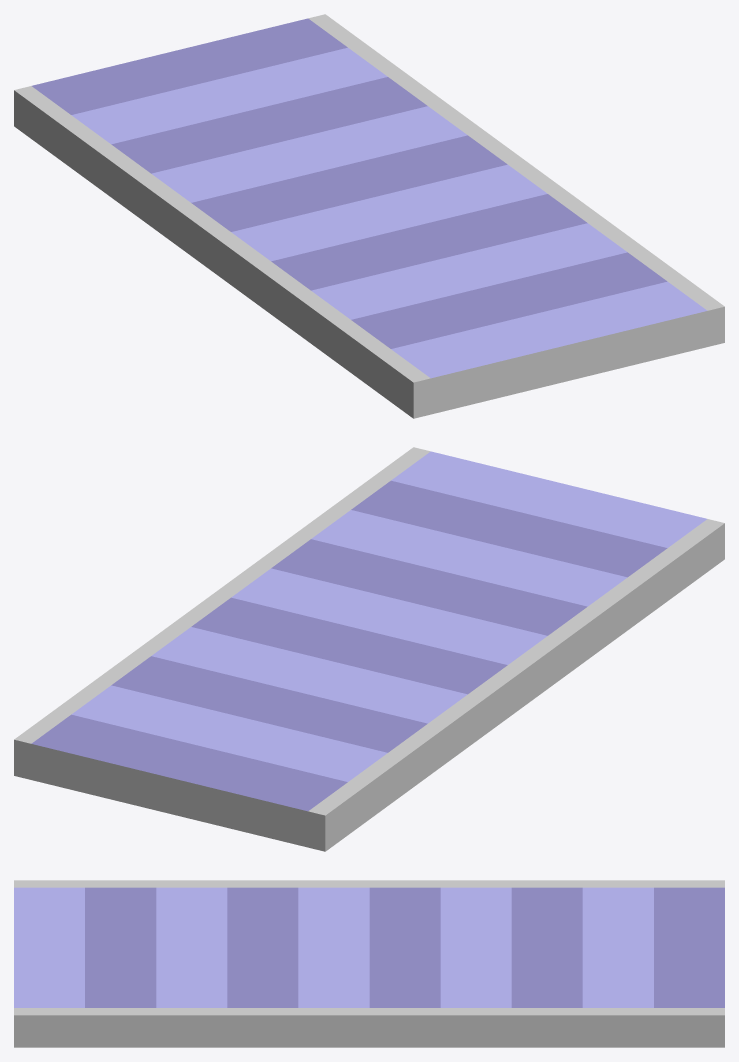
Rendered from road_1.fbx.
3 views of the same model, one above another, from view 1: azimuth 30°, elevation 25°; view 2: azimuth 150°, elevation 25°; view 3: azimuth 270°, elevation 25° (orthographic). The views are drawn at different scales.
Parts seen in each view (by area): view 1: Road; view 2: Road; view 3: Road.
Part boxes in pixels (x1,y1,x2,y2): Road: [14, 14, 724, 418]; Road: [14, 447, 724, 851]; Road: [14, 880, 724, 1047].
Bounding box in the file's own units: 1800 × 200 × 4000.
